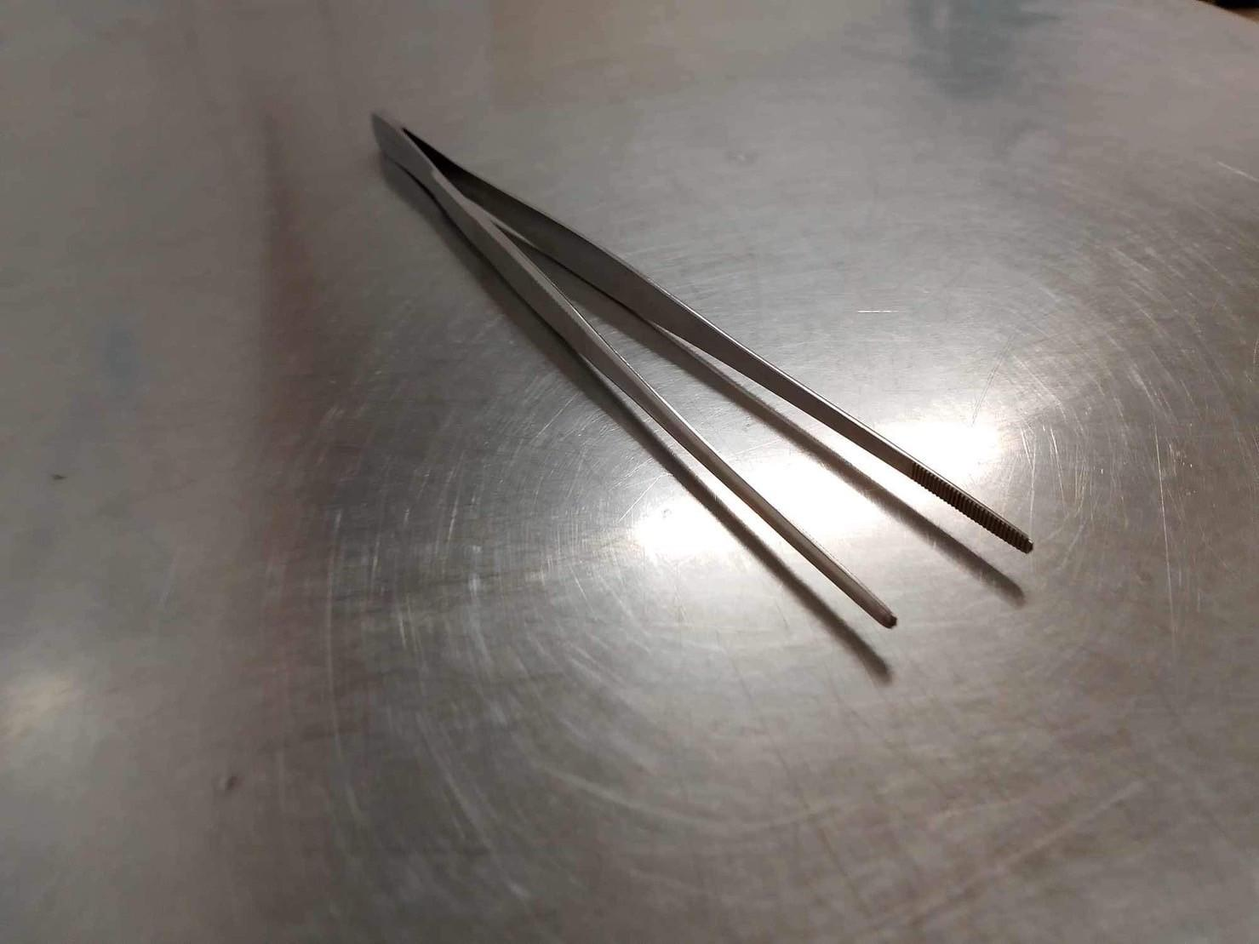Pathological: (4, 3, 1253, 940)
Sharps: (369, 109, 1033, 630)
